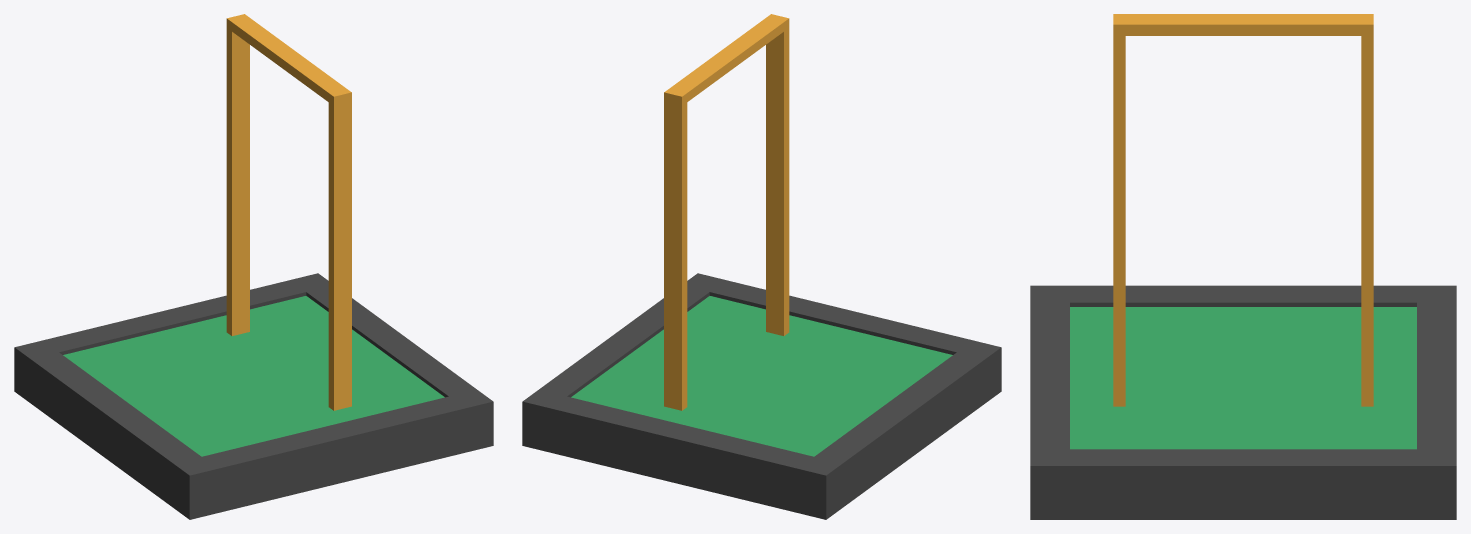
3 views of the same model, side by side, from view 1: azimuth 30°, elevation 25°; view 2: azimuth 150°, elevation 25°; view 3: azimuth 270°, elevation 25° (orthographic). The views are drawn at different scales.
Size of the model in its own units: 0.86 by 0.96 by 0.86.
